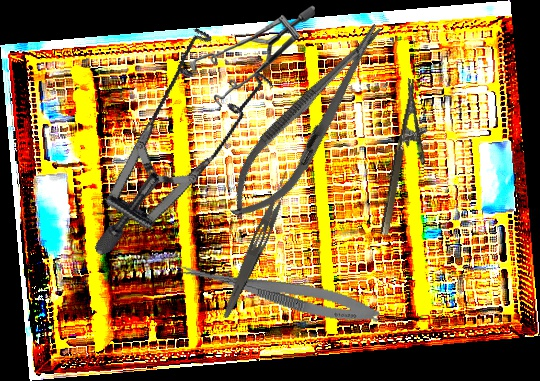Dressing Forceps: (219, 168, 298, 323)
Micro Scissor: (173, 257, 382, 330)
Needle Holder: (213, 10, 403, 234), (378, 78, 440, 240)
Speculum: (31, 9, 308, 257), (189, 4, 317, 108)
